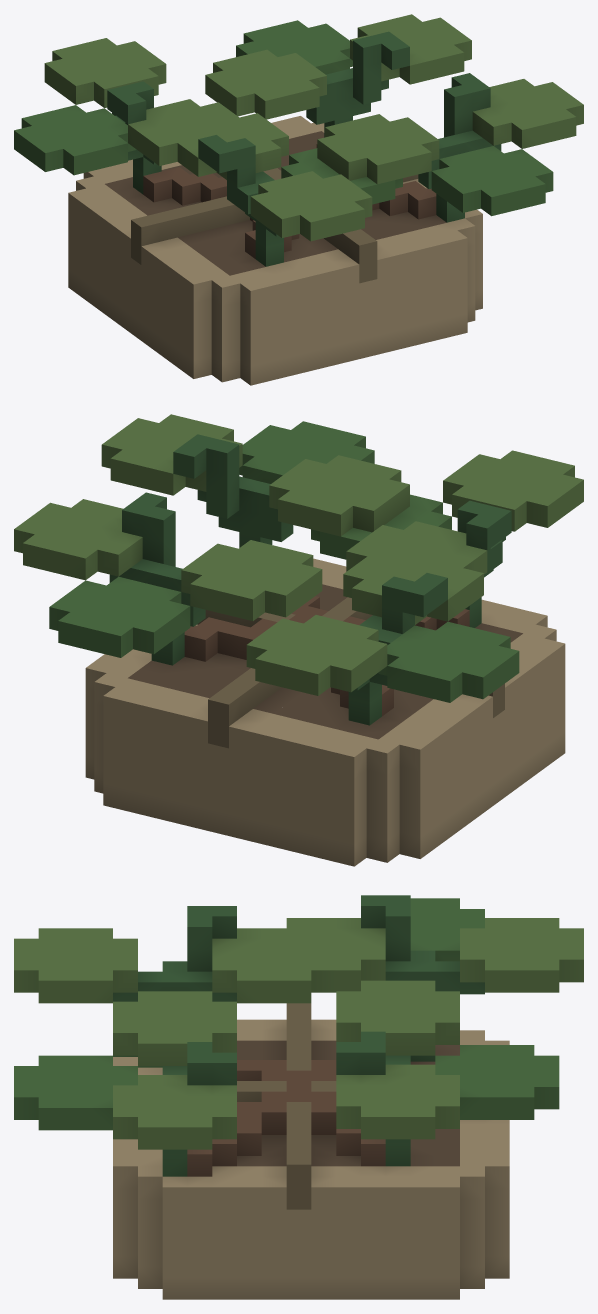
File: wild_strawberry_packed_summer_picked.glb
The picture shows the model from 3 angles, top to bottom: view 1: azimuth 30°, elevation 25°; view 2: azimuth 150°, elevation 25°; view 3: azimuth 270°, elevation 25°; orthographic projection. The views are drawn at different scales.
Parts seen in each view (by area): view 1: VoxelVisual; view 2: VoxelVisual; view 3: VoxelVisual.
Part boxes in pixels (x1,y1,x2,y2): VoxelVisual: (14, 14, 583, 385); VoxelVisual: (14, 414, 583, 866); VoxelVisual: (14, 895, 583, 1299).
Size of what is drawn, in the model's own units: 1.5 by 0.6875 by 1.44.
